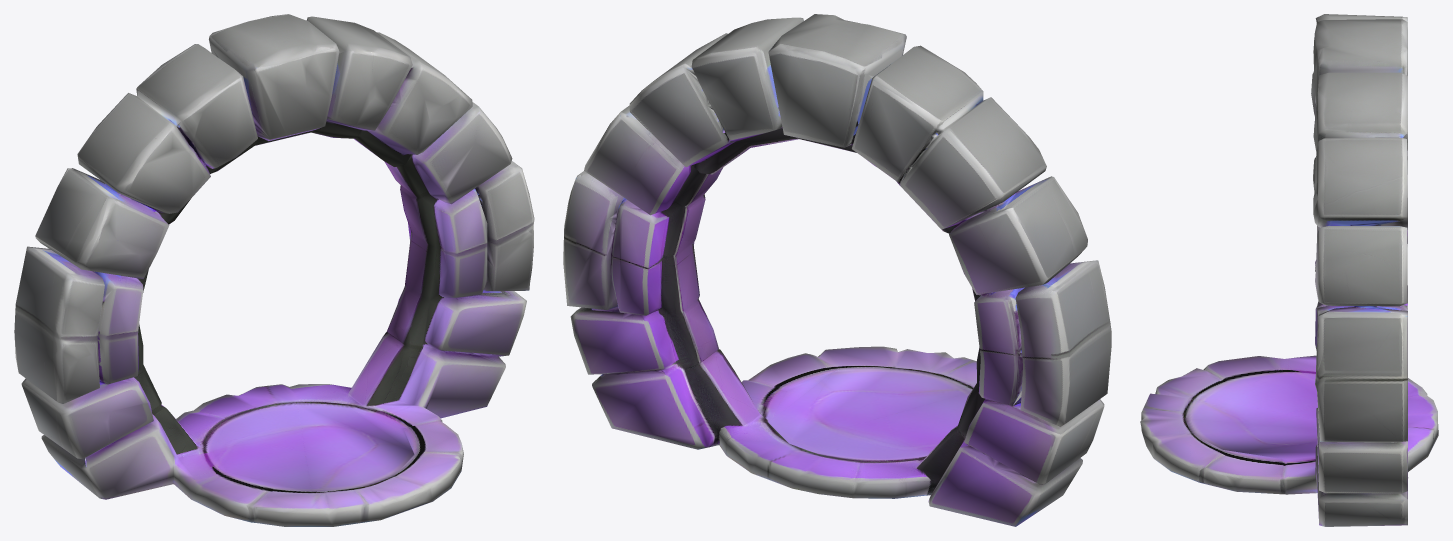
File: hazard_portal_gate.glb
3 views of the same model, side by side, from view 1: azimuth 30°, elevation 25°; view 2: azimuth 150°, elevation 25°; view 3: azimuth 270°, elevation 25° (orthographic). The views are drawn at different scales.
Visible parts, largest first — view 1: Mesh_0.001; view 2: Mesh_0.001; view 3: Mesh_0.001.
Boxes of the visible parts, bbox=[...] form: Mesh_0.001: bbox=[14, 14, 534, 526]; Mesh_0.001: bbox=[563, 14, 1111, 526]; Mesh_0.001: bbox=[1140, 14, 1438, 526].
Bounding box in the file's own units: 1.91 × 1.53 × 1.04.
1 material, 1 textured.
